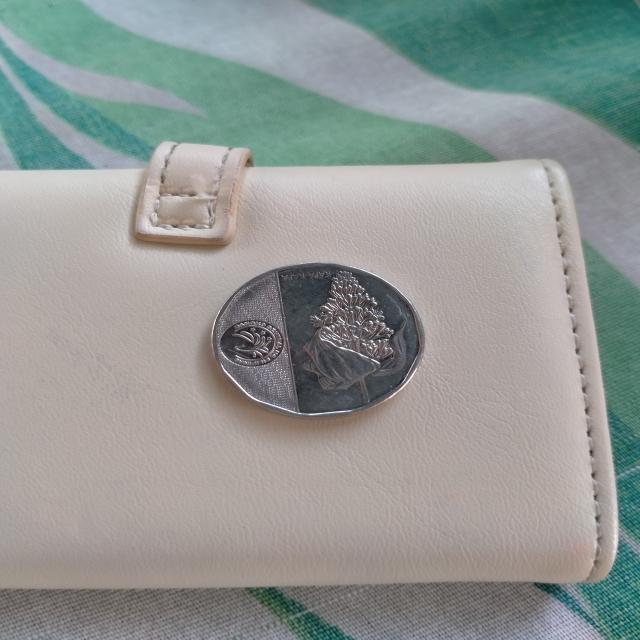10_New_Back: (298, 258, 415, 413)
